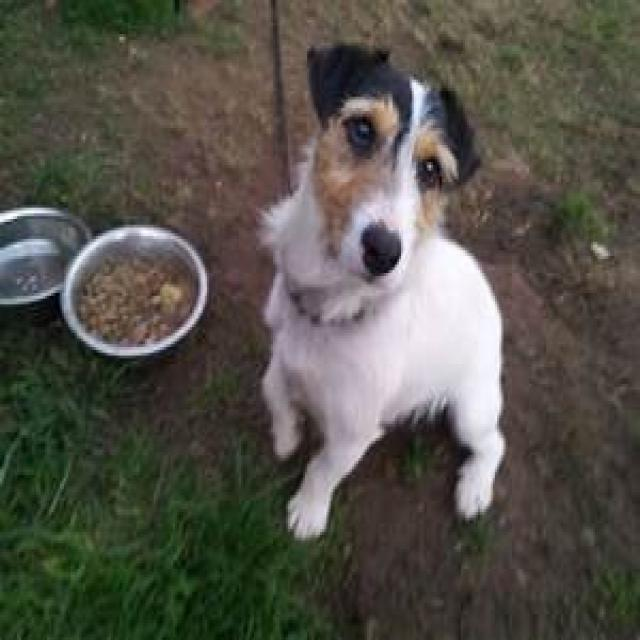dog: (258, 43, 508, 543)
